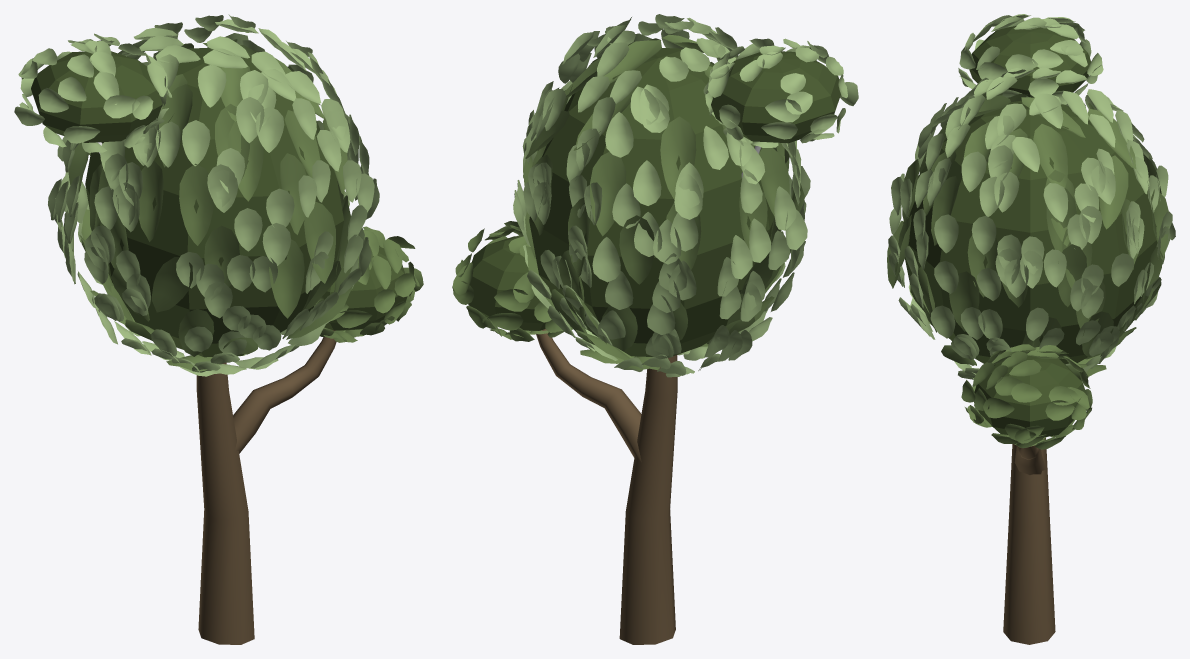
The model's file is arbre2.fbx.
The picture shows the model from 3 angles, left to right: view 1: azimuth 30°, elevation 25°; view 2: azimuth 150°, elevation 25°; view 3: azimuth 270°, elevation 25°; orthographic projection. The views are drawn at different scales.
Visible parts, largest first — view 1: MASH8_arbre_02_ReproMesh, MASH7_ReproMesh1, pSphere5, sweep2, MASH6_arbre_02_ReproMesh, pSphere6, MASH5_arbre_02_ReproMesh, sweep3, pSphere4; view 2: MASH8_arbre_02_ReproMesh, pSphere5, MASH7_ReproMesh1, sweep2, MASH6_arbre_02_ReproMesh, pSphere6, MASH5_arbre_02_ReproMesh, pSphere4, sweep3; view 3: MASH8_arbre_02_ReproMesh, pSphere5, MASH7_ReproMesh1, sweep2, MASH5_arbre_02_ReproMesh, MASH6_arbre_02_ReproMesh, pSphere4, pSphere6, sweep3.
Part boxes in pixels (x1,y1,x2,y2): MASH8_arbre_02_ReproMesh: (48, 14, 379, 376); MASH7_ReproMesh1: (68, 39, 359, 371); pSphere5: (85, 47, 343, 357); sweep2: (196, 362, 254, 644); MASH6_arbre_02_ReproMesh: (14, 33, 171, 152); pSphere6: (31, 51, 162, 142); MASH5_arbre_02_ReproMesh: (311, 226, 423, 342); sweep3: (233, 330, 336, 453); pSphere4: (312, 246, 407, 330); MASH8_arbre_02_ReproMesh: (513, 14, 810, 377); pSphere5: (529, 48, 774, 356); MASH7_ReproMesh1: (523, 34, 804, 370); sweep2: (619, 355, 677, 644); MASH6_arbre_02_ReproMesh: (703, 38, 858, 147); pSphere6: (711, 51, 840, 143); MASH5_arbre_02_ReproMesh: (452, 221, 572, 341); pSphere4: (468, 236, 545, 330); sweep3: (536, 329, 641, 462); MASH8_arbre_02_ReproMesh: (888, 67, 1175, 379); pSphere5: (903, 100, 1157, 364); MASH7_ReproMesh1: (887, 93, 1168, 376); sweep2: (1003, 438, 1055, 644); MASH5_arbre_02_ReproMesh: (961, 344, 1092, 449); MASH6_arbre_02_ReproMesh: (958, 14, 1103, 104); pSphere4: (974, 355, 1086, 437); pSphere6: (969, 26, 1091, 97); sweep3: (1014, 445, 1046, 474).
Size of the model in its own units: 480 by 725 by 341.
